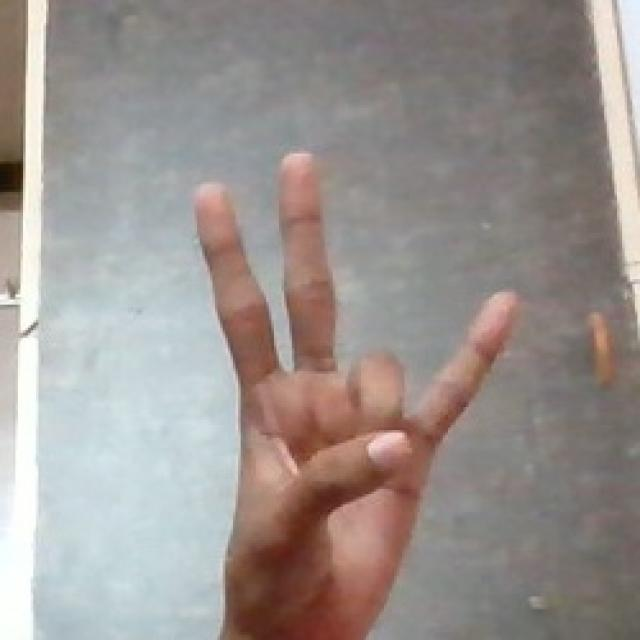Numeric-7: (183, 140, 527, 630)
